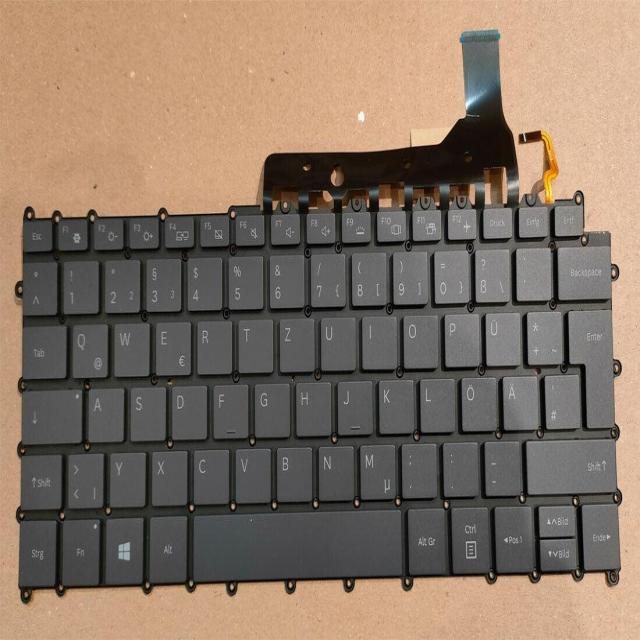0: (430, 244, 468, 303)
1: (60, 254, 98, 312)
2: (101, 253, 139, 311)
3: (142, 252, 181, 310)
4: (184, 251, 221, 309)
5: (224, 250, 262, 308)
6: (265, 249, 303, 308)
7: (308, 250, 345, 306)
8: (348, 247, 386, 305)
9: (389, 246, 426, 304)
a: (85, 382, 123, 439)
accent: (513, 242, 551, 299)
ae: (499, 369, 538, 428)
alt-left: (147, 512, 187, 582)
altgr-right: (404, 502, 445, 574)
b: (273, 441, 311, 500)
c: (190, 443, 228, 502)
caret: (19, 256, 56, 313)
comma: (397, 438, 436, 496)
d: (168, 379, 206, 438)
del: (555, 240, 611, 298)
e: (152, 316, 191, 374)
enter: (566, 302, 613, 427)
f: (209, 379, 247, 436)
g: (251, 377, 289, 436)
h: (292, 376, 330, 435)
hash: (541, 369, 579, 427)
i: (359, 310, 396, 367)
j: (334, 374, 372, 433)
k: (375, 373, 413, 433)
keyboard: (5, 178, 627, 599)
l: (417, 372, 454, 431)
less: (64, 448, 102, 507)
m: (355, 438, 394, 499)
minus: (480, 436, 520, 493)
n: (314, 440, 353, 499)
o: (399, 309, 438, 367)
oe: (458, 371, 497, 431)
p: (441, 307, 479, 366)
plus: (523, 305, 562, 363)
point: (439, 436, 477, 494)
q: (68, 319, 107, 376)
r: (193, 316, 231, 372)
s: (126, 382, 165, 438)
shift-left: (17, 449, 61, 508)
shift-lock: (19, 383, 82, 442)
shift-right: (522, 433, 616, 491)
space: (190, 505, 402, 578)
ss: (471, 243, 509, 301)
strg-left: (15, 514, 55, 586)
strg-right: (450, 508, 492, 580)
t: (235, 313, 272, 371)
tab: (20, 320, 65, 377)
u: (316, 311, 354, 369)
ue: (481, 306, 519, 365)
v: (232, 442, 270, 502)
w: (110, 317, 148, 375)
x: (149, 446, 186, 505)
y: (106, 446, 144, 506)
z: (275, 313, 313, 371)
